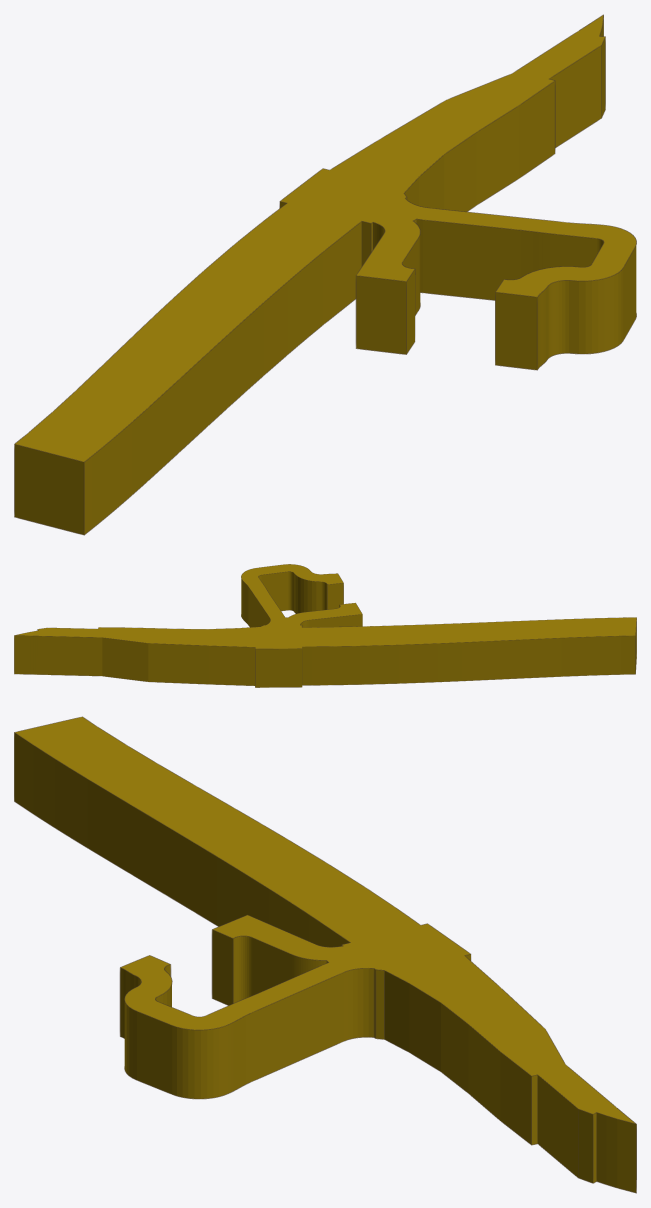
File: 望海路第二段.glb
3 renders of one model, top to bottom at view 1: azimuth 30°, elevation 25°; view 2: azimuth 150°, elevation 25°; view 3: azimuth 270°, elevation 25°, orthographic. The views are drawn at different scales.
Visible parts, largest first — view 1: 望海路第二段; view 2: 望海路第二段; view 3: 望海路第二段.
Boxes of the visible parts, left/top/right/bottom form: 望海路第二段: left=14, top=14, right=636, bottom=535; 望海路第二段: left=14, top=564, right=636, bottom=687; 望海路第二段: left=14, top=716, right=636, bottom=1193.
Size of the model in its own units: 489 by 39.22 by 316.
Materials: 2 (1 with a texture image).
